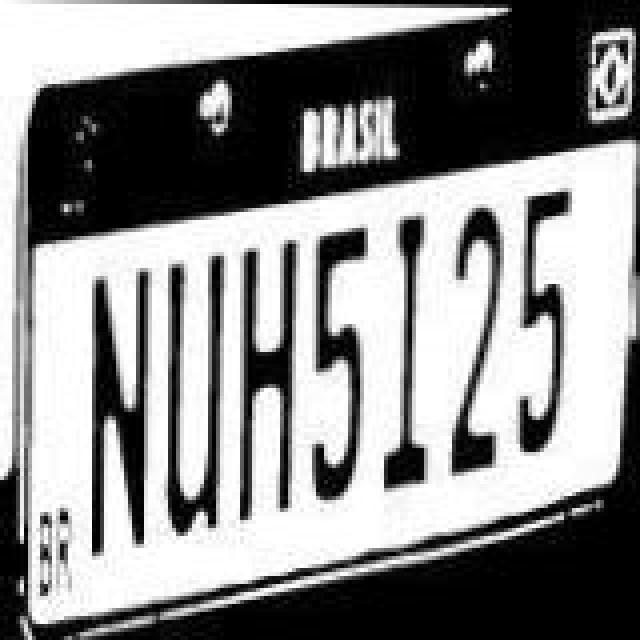2: (444, 196, 512, 472)
5: (312, 226, 372, 502), (514, 182, 570, 454)
H: (240, 242, 300, 526)
I: (378, 196, 434, 484)
N: (82, 248, 154, 556)
U: (158, 244, 230, 544)
